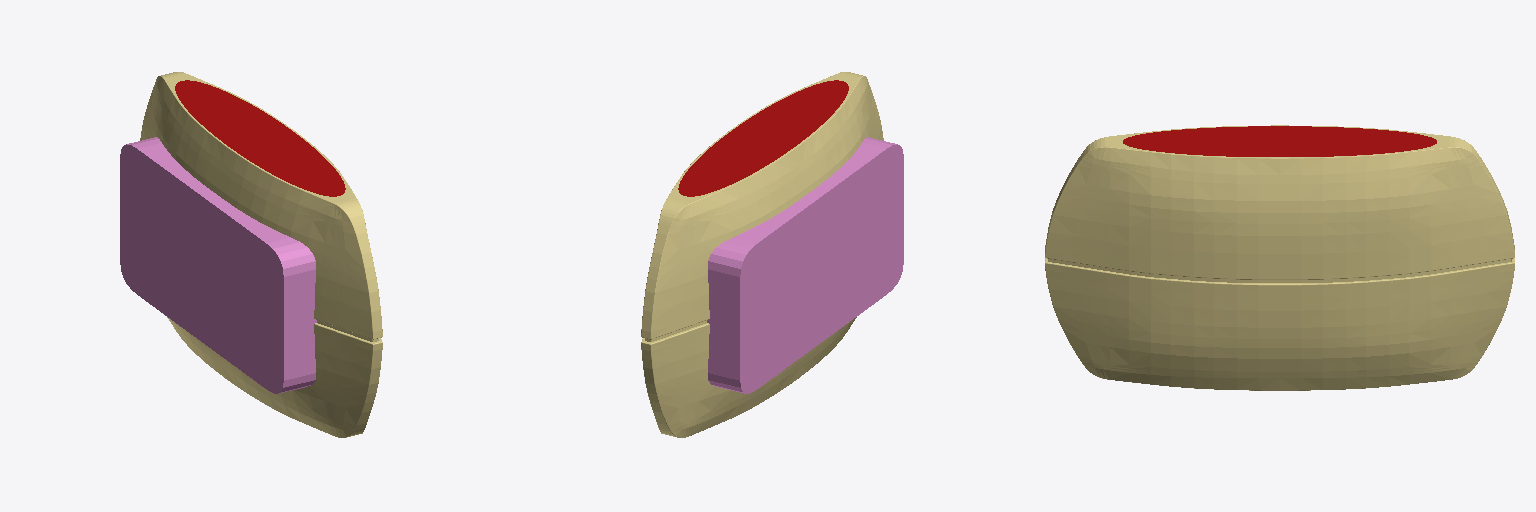
Rendered from arandel.obj.
3 views of the same model, side by side, from view 1: azimuth 30°, elevation 25°; view 2: azimuth 150°, elevation 25°; view 3: azimuth 270°, elevation 25° (orthographic).
Visible parts, largest first — view 1: Box002, HALF007, Glass002; view 2: Box002, HALF007, Glass002; view 3: HALF007, Glass002.
Part boxes in pixels (x1,y1,x2,y2): Box002: (120,137,316,393); HALF007: (140,72,382,437); Glass002: (175,80,345,196); Box002: (707,137,903,393); HALF007: (641,72,883,437); Glass002: (678,80,848,196); HALF007: (1045,125,1514,390); Glass002: (1123,126,1436,156).
Bounding box in the file's own units: 53.46 × 110 × 201.